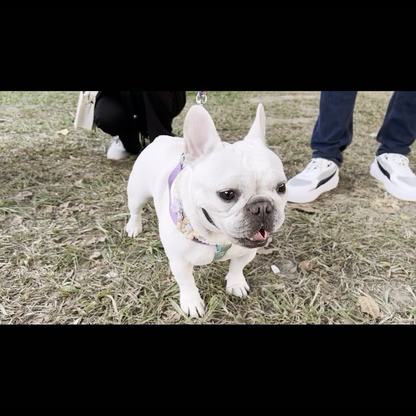bulldog: (123, 102, 290, 320)
